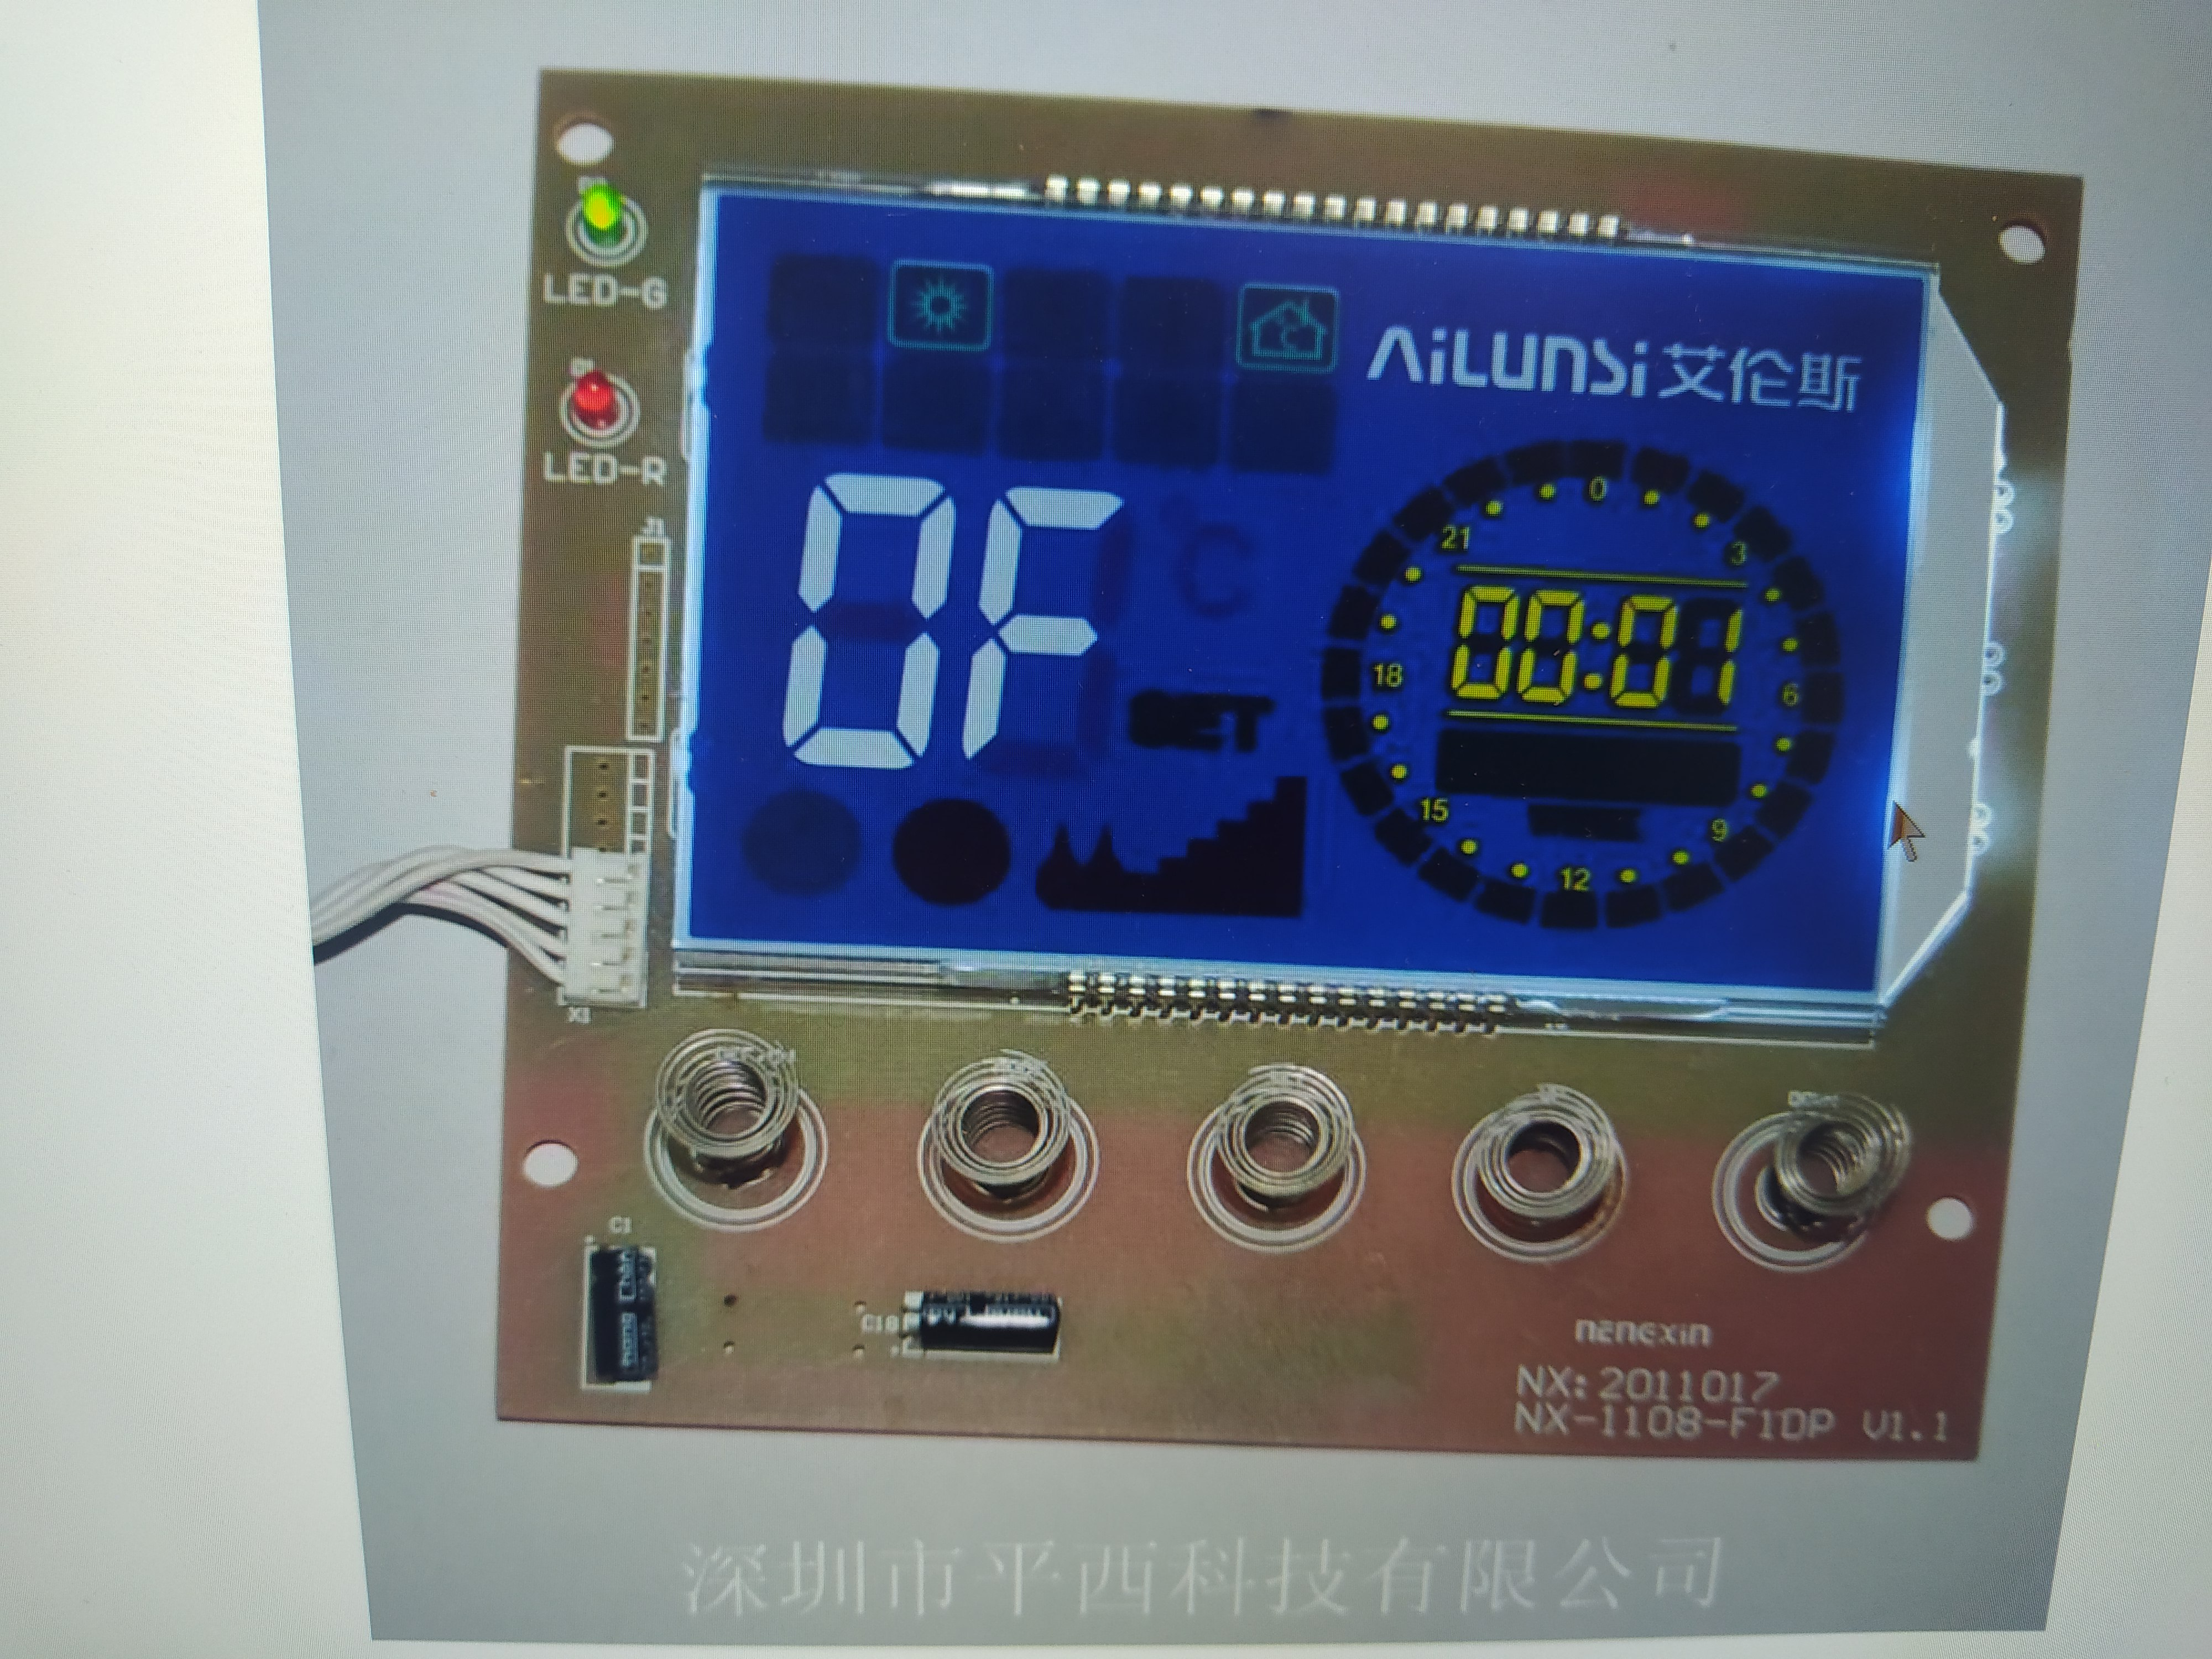.: (1905, 1408, 1926, 1446)
0: (1613, 589, 1679, 716), (1522, 575, 1583, 709), (1456, 579, 1517, 706), (1696, 1364, 1730, 1408), (1623, 1363, 1655, 1405), (1648, 1399, 1676, 1446), (1587, 476, 1613, 507)
1: (1705, 592, 1756, 713), (1622, 1401, 1644, 1450), (1597, 1399, 1618, 1445), (1674, 1363, 1696, 1403), (1752, 1405, 1775, 1443), (1926, 1408, 1949, 1446), (1655, 1363, 1674, 1405), (1730, 1366, 1749, 1408), (1458, 521, 1475, 556), (1892, 1406, 1905, 1446), (1557, 863, 1575, 894), (1371, 660, 1386, 694), (1420, 796, 1433, 828)
2: (1601, 1363, 1623, 1399), (1575, 863, 1594, 894), (1444, 523, 1458, 554)
3: (1726, 540, 1750, 577)
5: (1433, 795, 1449, 830)
6: (1778, 678, 1806, 718)
7: (1750, 1368, 1778, 1403)
8: (1677, 1399, 1703, 1452), (1388, 660, 1404, 697)
9: (1709, 819, 1731, 847)
